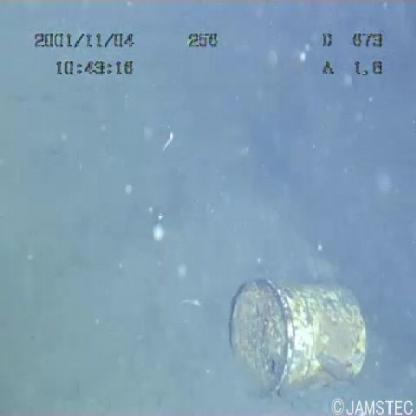Rác: (214, 269, 374, 401)
